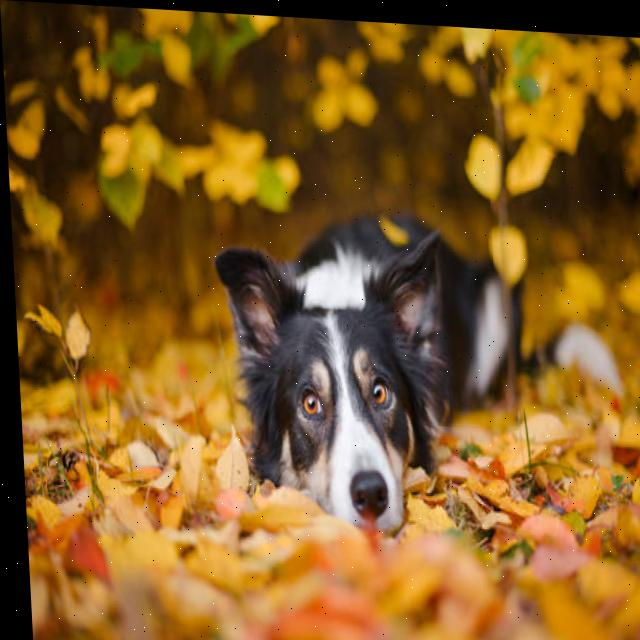BORDER_COLLIE: (202, 176, 621, 537)
